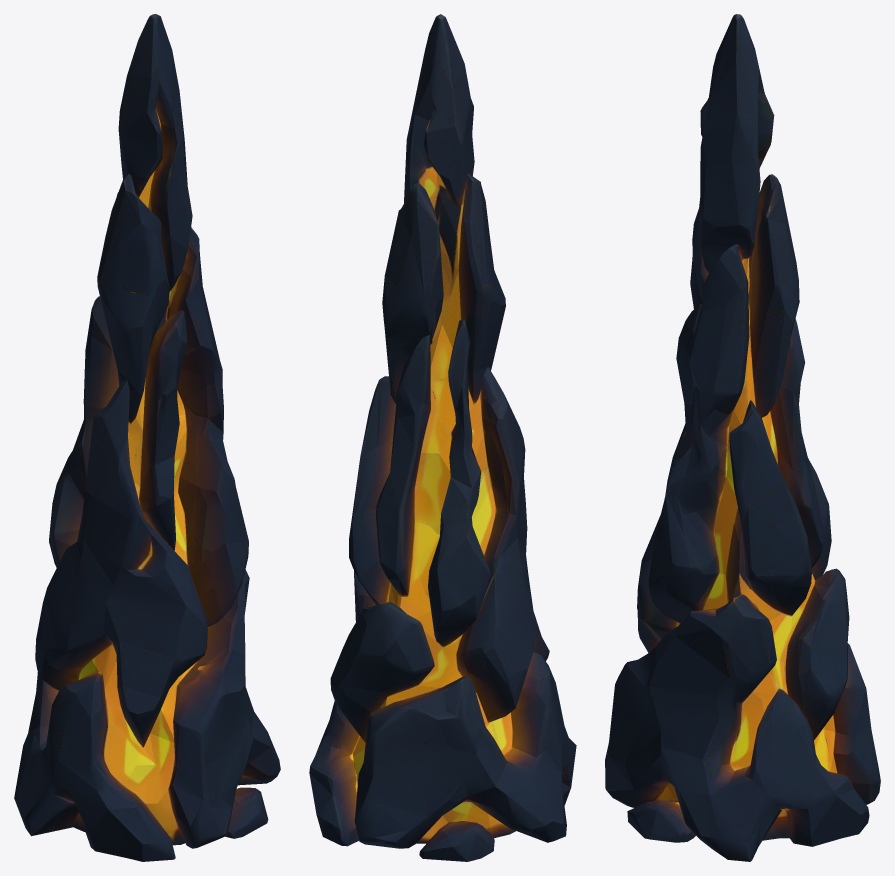
The model's file is obsidian.glb.
The picture shows the model from 3 angles, left to right: view 1: azimuth 30°, elevation 25°; view 2: azimuth 150°, elevation 25°; view 3: azimuth 270°, elevation 25°; orthographic projection.
Size of the model in its own units: 0.6119 by 1.9 by 0.5996.
1 material, 1 textured.
